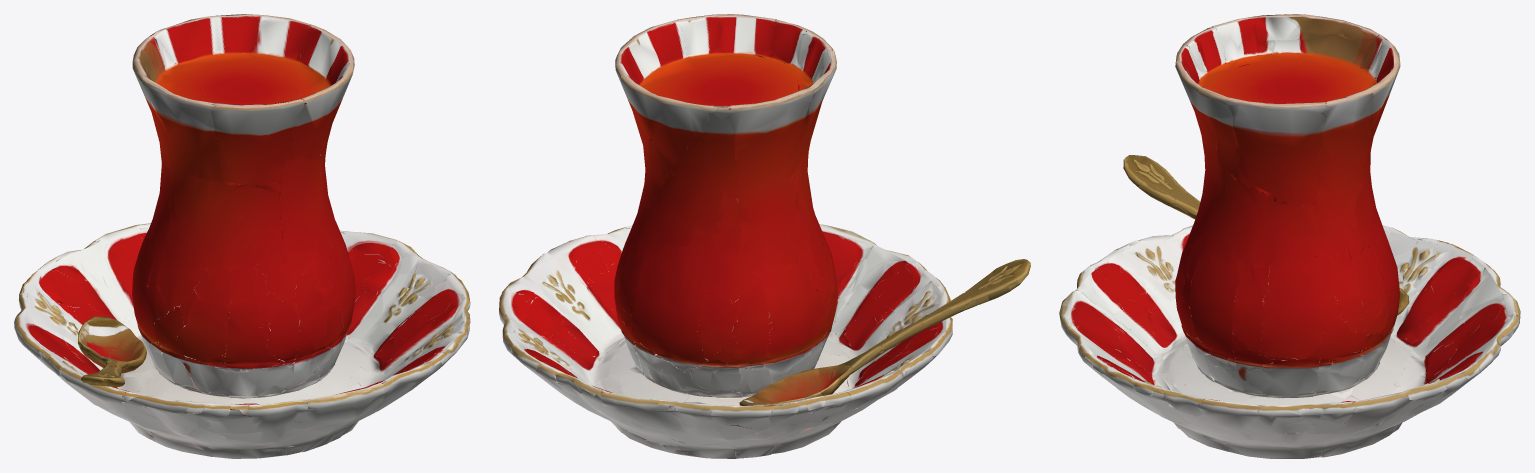
The model's file is cay_bardagi.glb.
The picture shows the model from 3 angles, left to right: view 1: azimuth 30°, elevation 25°; view 2: azimuth 150°, elevation 25°; view 3: azimuth 270°, elevation 25°; orthographic projection.
Parts seen in each view (by area): view 1: Mesh_0; view 2: Mesh_0; view 3: Mesh_0.
Part boxes in pixels (bbox=[...]): Mesh_0: bbox=[14, 14, 470, 458]; Mesh_0: bbox=[499, 14, 1030, 458]; Mesh_0: bbox=[1059, 14, 1520, 458].
Bounding box in the file's own units: 0.148 × 0.115 × 0.1376.
Materials: 1 (1 with a texture image).
